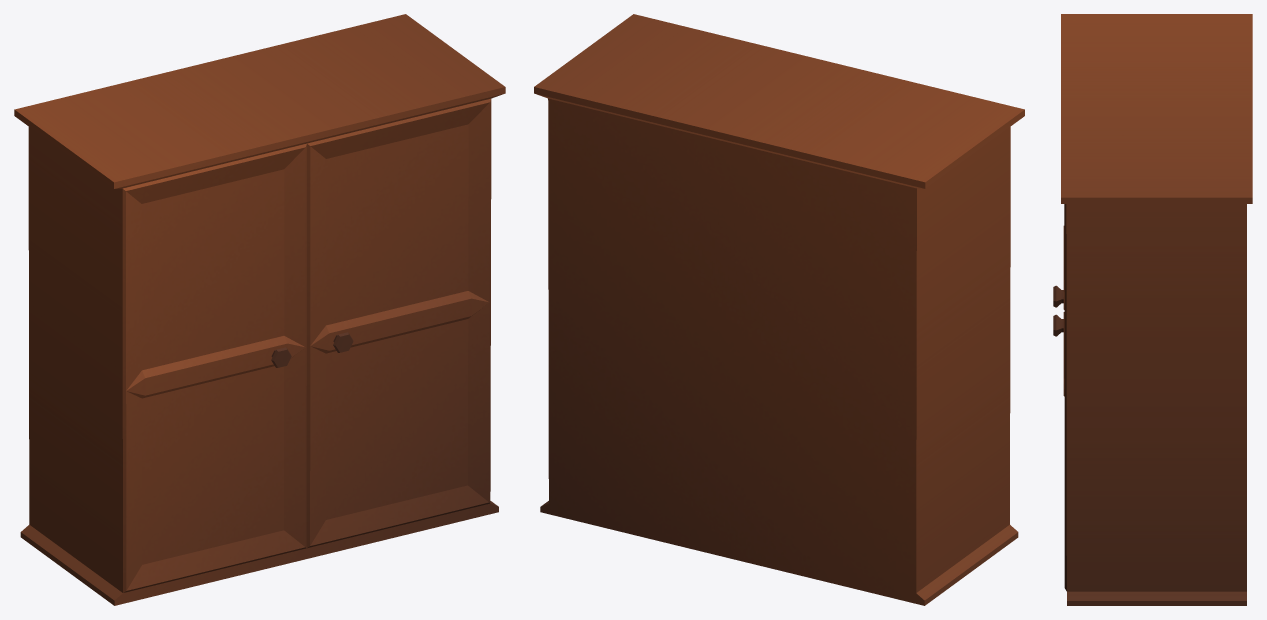
Rendered from furniture_dresser0.fbx.
The picture shows the model from 3 angles, left to right: view 1: azimuth 30°, elevation 25°; view 2: azimuth 150°, elevation 25°; view 3: azimuth 270°, elevation 25°; orthographic projection. The views are drawn at different scales.
Visible parts, largest first — view 1: furniture_dresser0; view 2: furniture_dresser0; view 3: furniture_dresser0.
Part boxes in pixels (x1,y1,x2,y2): furniture_dresser0: (14, 14, 505, 605); furniture_dresser0: (534, 14, 1024, 605); furniture_dresser0: (1053, 14, 1252, 605).
Bounding box in the file's own units: 2.02 × 0.9247 × 2.1.
